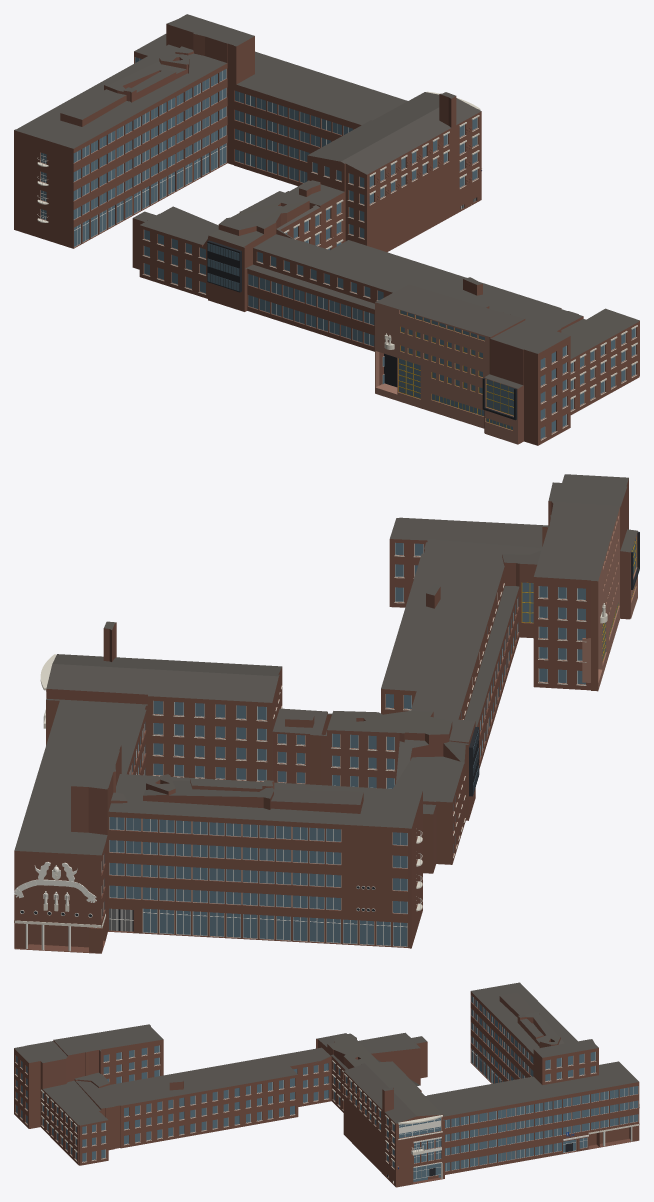
File: hoofdbureau-elandsgracht.glb
The picture shows the model from 3 angles, top to bottom: view 1: azimuth 30°, elevation 25°; view 2: azimuth 150°, elevation 25°; view 3: azimuth 270°, elevation 25°; orthographic projection. The views are drawn at different scales.
Parts seen in each view (by area): view 1: hoofdbureau-elandsgracht; view 2: hoofdbureau-elandsgracht; view 3: hoofdbureau-elandsgracht.
Part boxes in pixels (x1=…): hoofdbureau-elandsgracht: x1=14, y1=14, x2=639, y2=445; hoofdbureau-elandsgracht: x1=14, y1=474, x2=639, y2=953; hoofdbureau-elandsgracht: x1=14, y1=982, x2=639, y2=1187.
Size of the model in its own units: 83.31 by 24.83 by 164.
